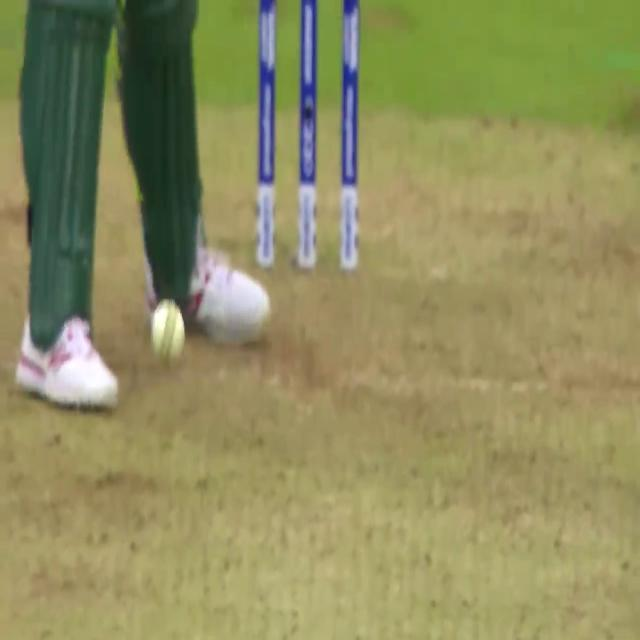ball: (142, 286, 188, 371)
